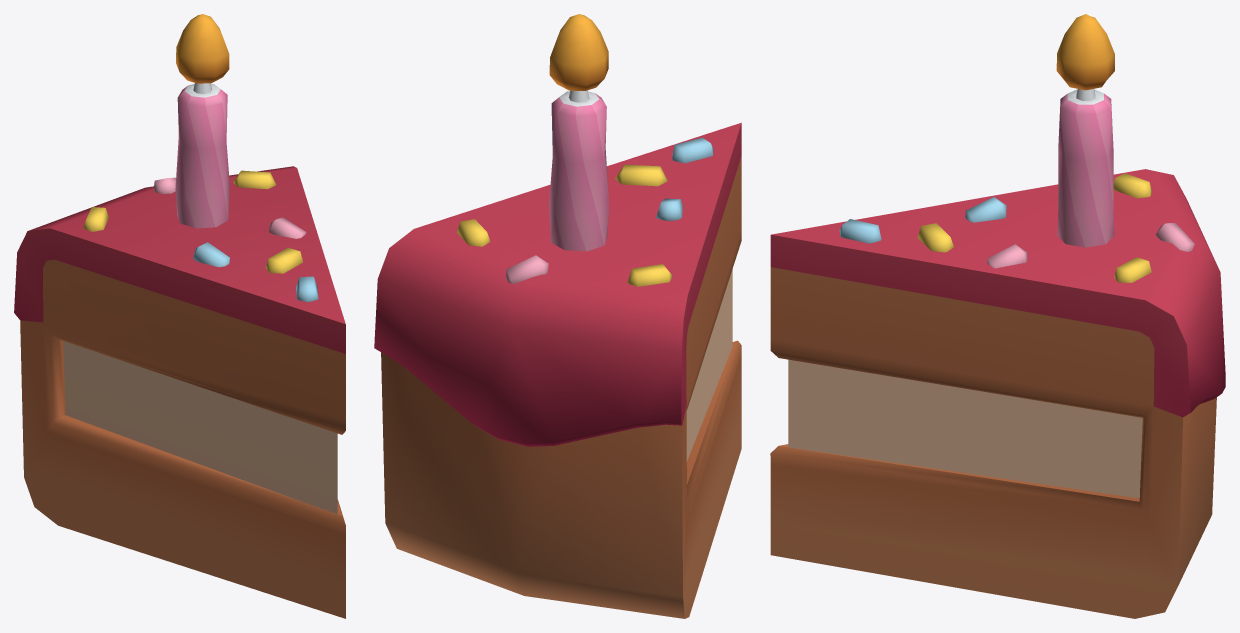
Rendered from cake_birthday_slice.gltf.
3 renders of one model, left to right at view 1: azimuth 30°, elevation 25°; view 2: azimuth 150°, elevation 25°; view 3: azimuth 270°, elevation 25°, orthographic. The views are drawn at different scales.
Parts seen in each view (by area): view 1: cake_birthday_slice, cake_birthday_slice_candle_fire; view 2: cake_birthday_slice, cake_birthday_slice_candle_fire; view 3: cake_birthday_slice, cake_birthday_slice_candle_fire.
Part boxes in pixels (bbox=[...]): cake_birthday_slice: bbox=[14, 83, 345, 618]; cake_birthday_slice_candle_fire: bbox=[176, 14, 229, 83]; cake_birthday_slice: bbox=[374, 90, 741, 618]; cake_birthday_slice_candle_fire: bbox=[549, 14, 608, 90]; cake_birthday_slice: bbox=[770, 89, 1225, 618]; cake_birthday_slice_candle_fire: bbox=[1056, 14, 1114, 90].
Size of the model in its own units: 0.4668 by 0.8021 by 0.6102.
1 material, 1 textured.
